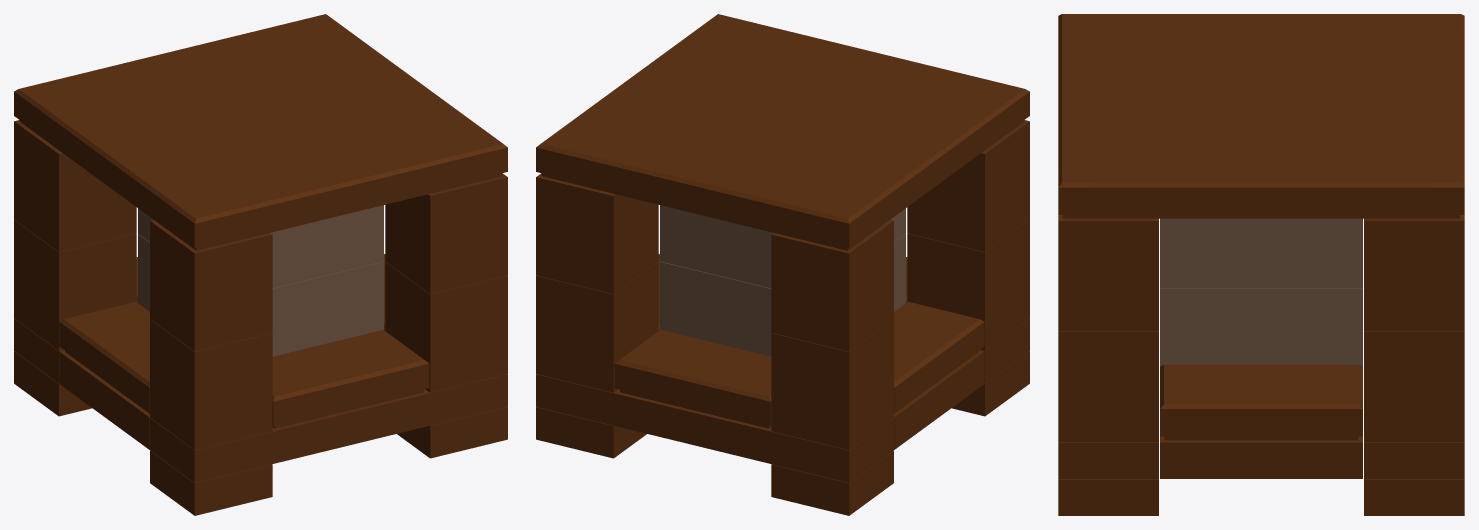
The picture shows the model from 3 angles, left to right: view 1: azimuth 30°, elevation 25°; view 2: azimuth 150°, elevation 25°; view 3: azimuth 270°, elevation 25°; orthographic projection. The views are drawn at different scales.
Parts seen in each view (by area): view 1: Box; view 2: Box; view 3: Box.
Part boxes in pixels (x1,y1,x2,y2): Box: (14,14,507,515); Box: (536,14,1029,515); Box: (1058,14,1464,515).
Bounding box in the file's own units: 3192 × 2876 × 3192.
